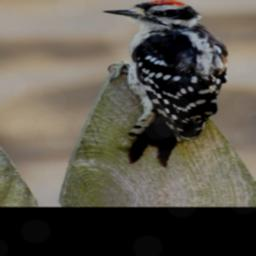Woodpecker: (94, 0, 256, 169)
